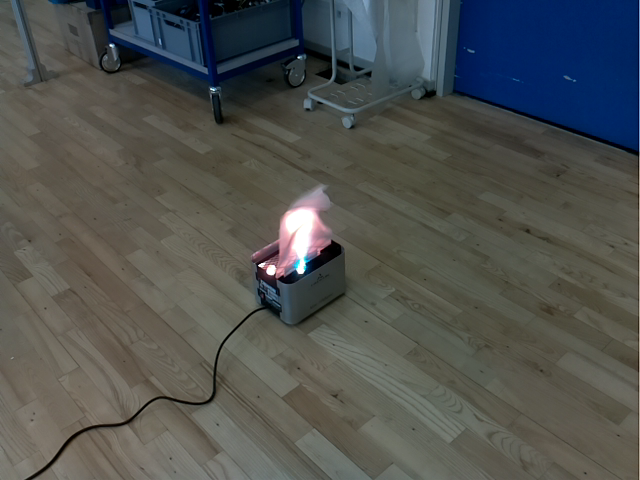fire: (275, 184, 332, 277)
